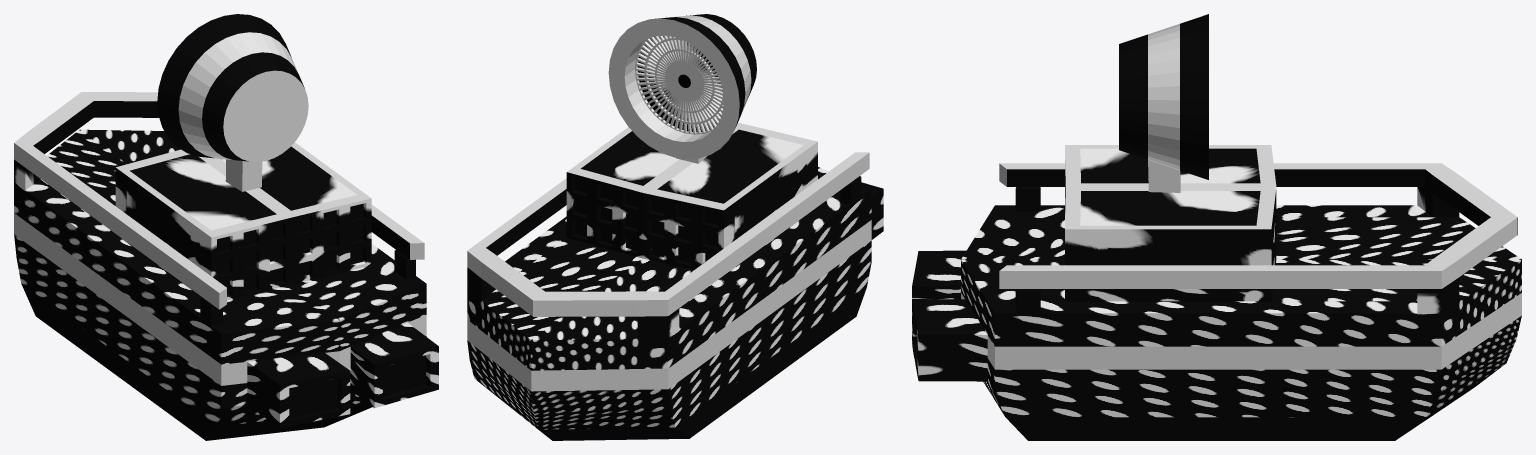
Rendered from BLACK_DestroyerASW.fbx.
The picture shows the model from 3 angles, left to right: view 1: azimuth 30°, elevation 25°; view 2: azimuth 150°, elevation 25°; view 3: azimuth 270°, elevation 25°; orthographic projection. The views are drawn at different scales.
Parts seen in each view (by area): view 1: Cube, Cylinder; view 2: Cube, Cylinder; view 3: Cube, Cylinder.
Part boxes in pixels (x1,y1,x2,y2): Cube: [14, 92, 438, 440]; Cylinder: [157, 14, 308, 191]; Cube: [467, 122, 883, 440]; Cylinder: [608, 14, 756, 163]; Cube: [912, 145, 1521, 440]; Cylinder: [1119, 14, 1208, 192].
Size of the model in its own units: 362 by 572 by 866.
